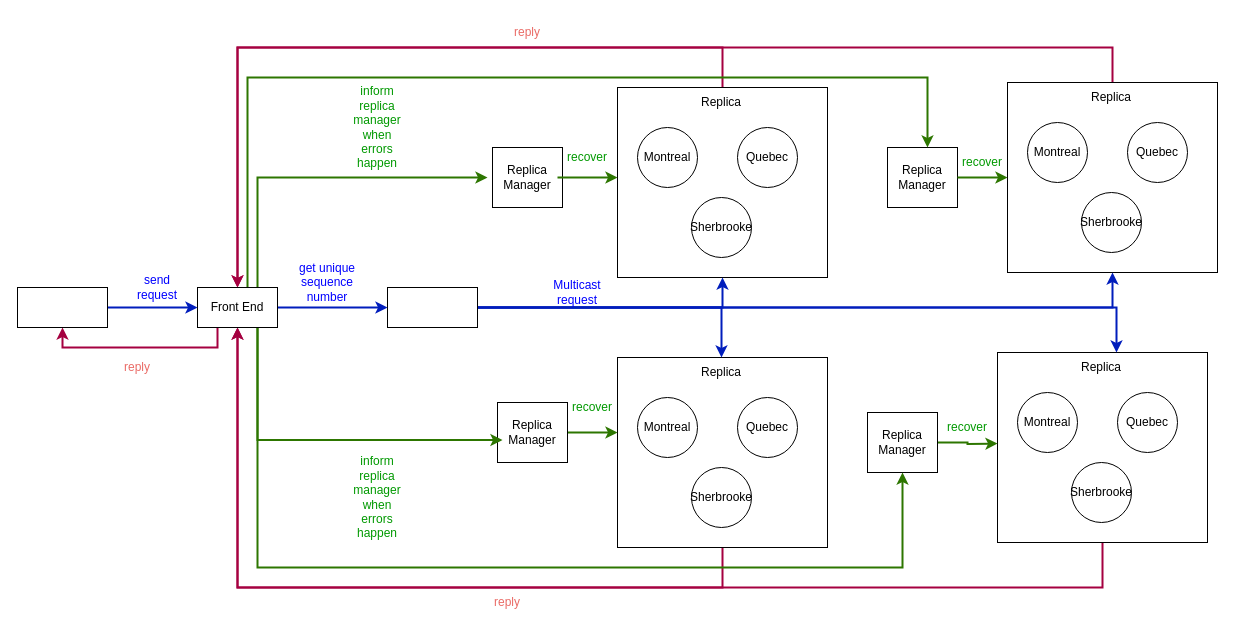
Image size: 1235x634. Some labels were removed from this diagram. Each missing label, with the centre of its shape:
"Client" goes at (62,307).
"Sequencer" goes at (432,307).
